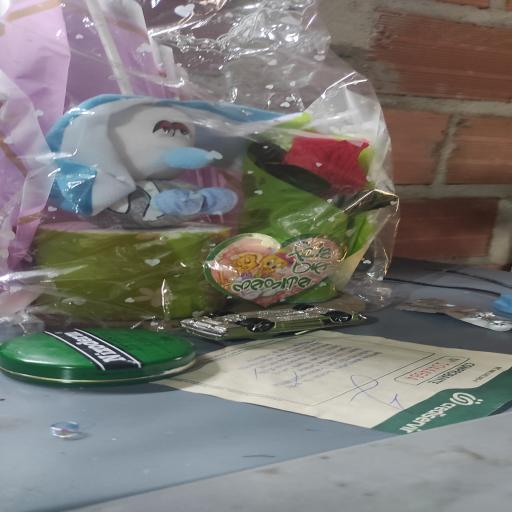Carrito: (180, 304, 366, 341)
